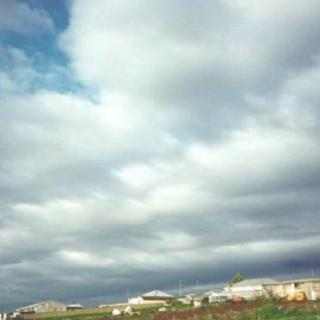Stratocumulus: (0, 1, 320, 302)
